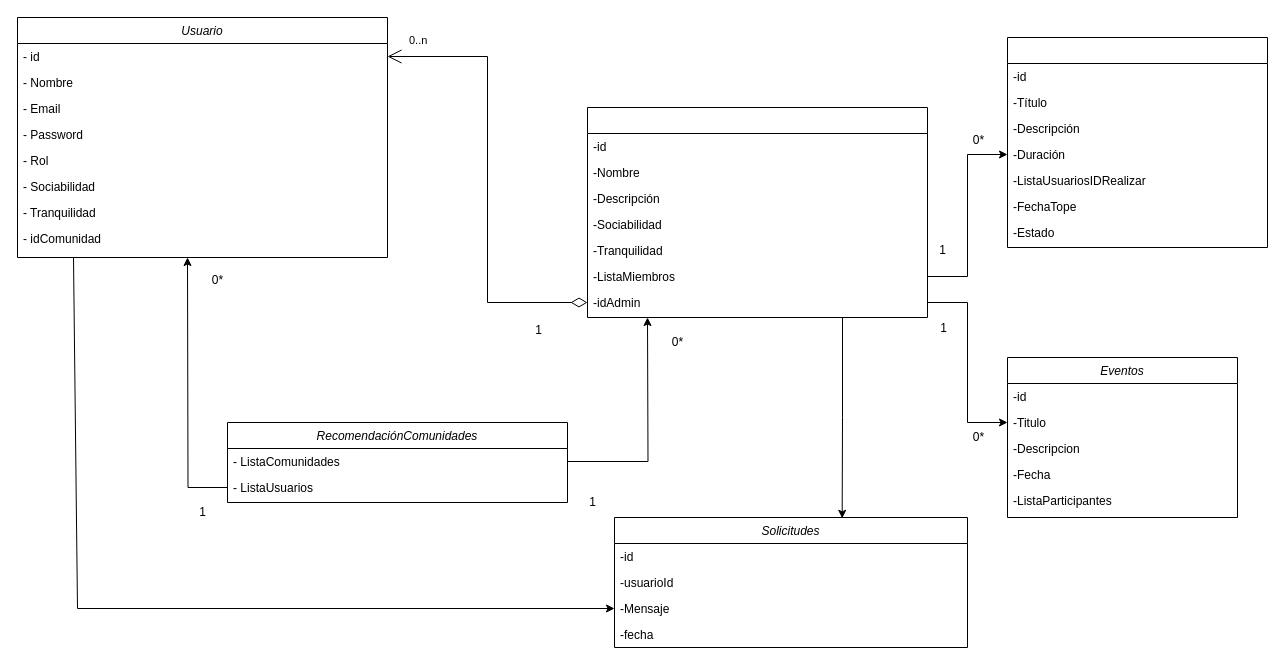
Image size: 1285x668. Some labels were removed from this diagram. The box of each missing label's shape, as (x1, y1, x2, y2) in pixels:
Comunidad: (586, 106, 928, 318)
Tareas: (1006, 36, 1268, 248)
